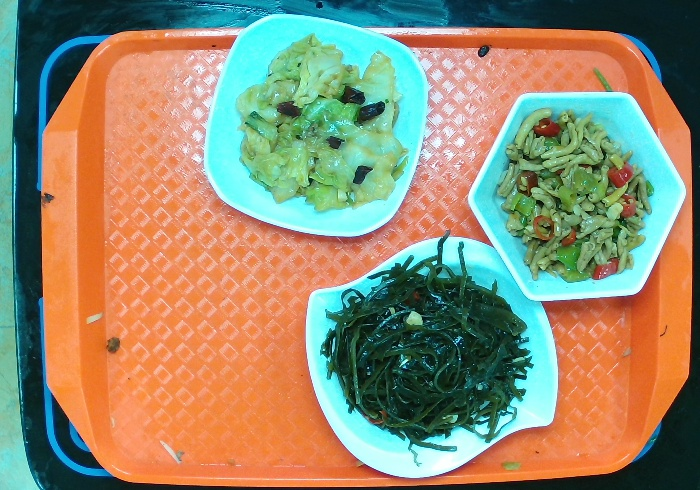RJxy-Liu_Jiao_Wan: (461, 82, 699, 304)
RJxy-Shuang_Jiao_Pan: (297, 232, 572, 479)
RJxy-Si_Fang_Wan: (195, 11, 431, 245)
